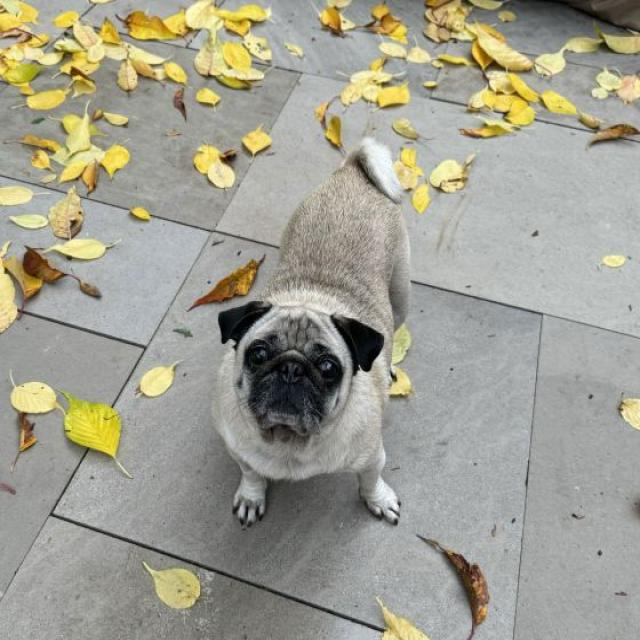pug_dog: (208, 294, 392, 456)
